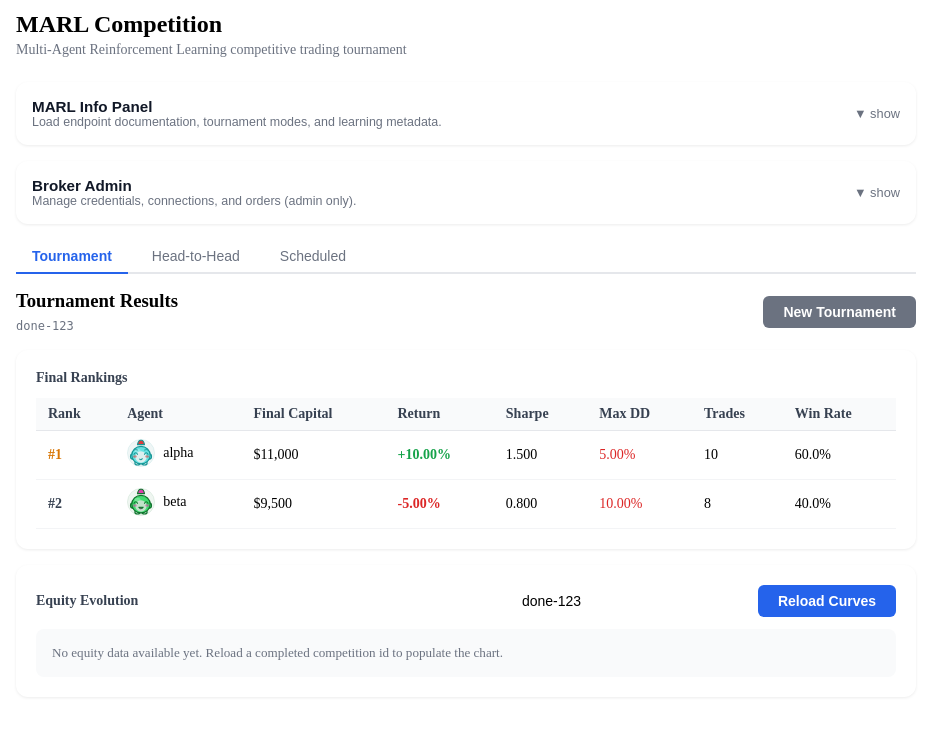
Scenario: MarlCompetitionViewer — results › reloads equity curves into the existing chart area and shows running fallback state
Click the button "Reload Curves" at (827, 601), box left=758, top=585, right=896, bottom=617
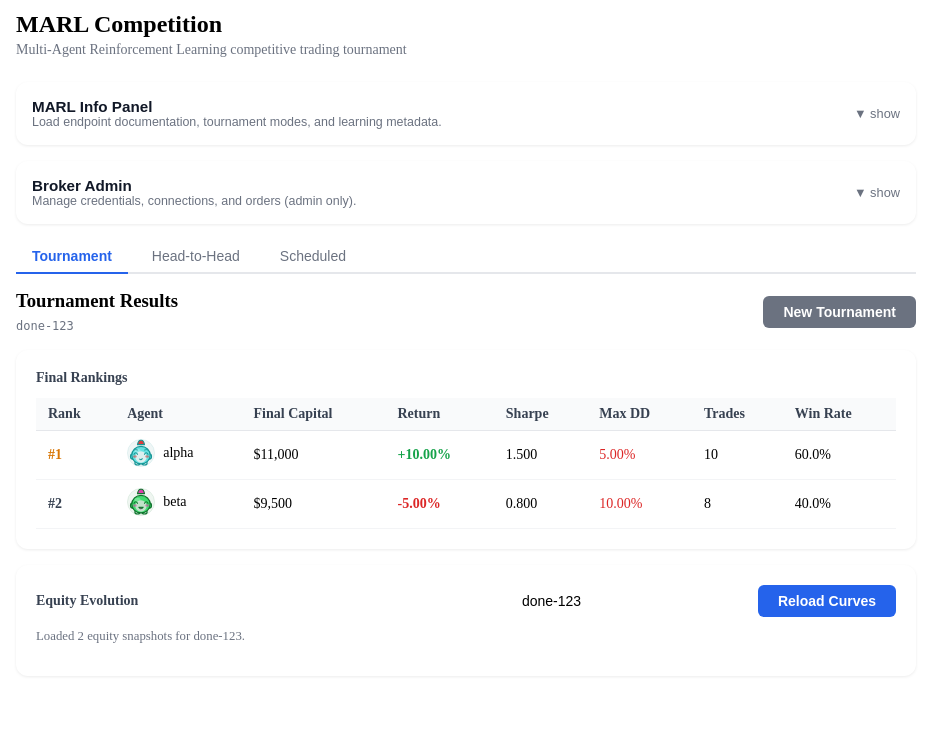
Check: the text "Loaded 2 equity snapshots for done-123." is shown, box left=36, top=629, right=245, bottom=643
Replace the text in the field named "Competition ID" with "running-456" at (630, 601), box left=510, top=585, right=750, bottom=617
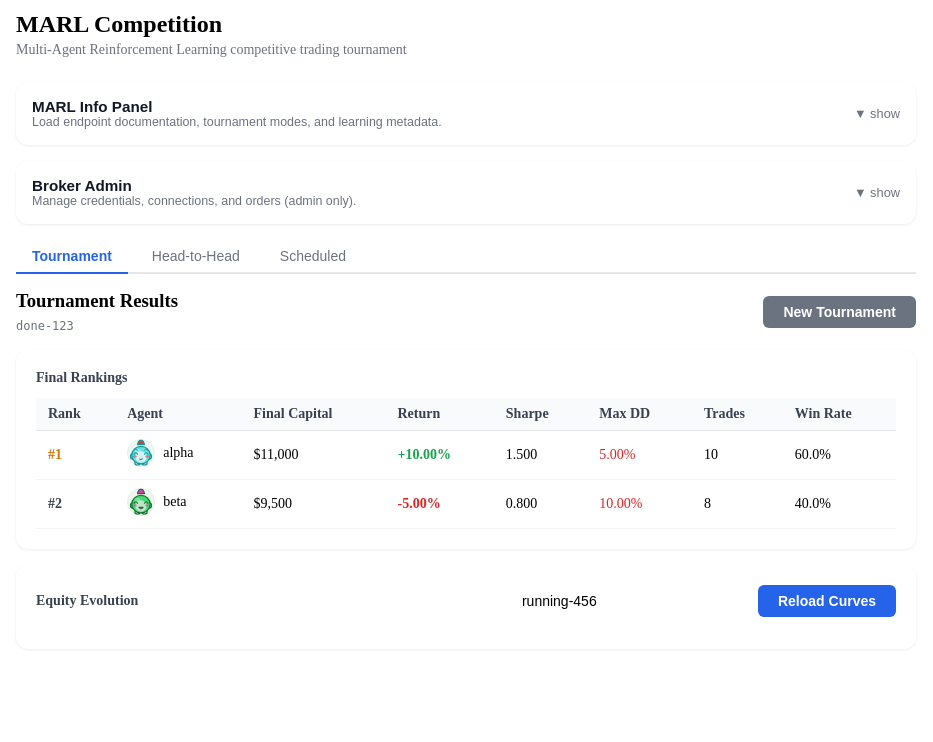
Click the button "Reload Curves" at (827, 601), box left=758, top=585, right=896, bottom=617
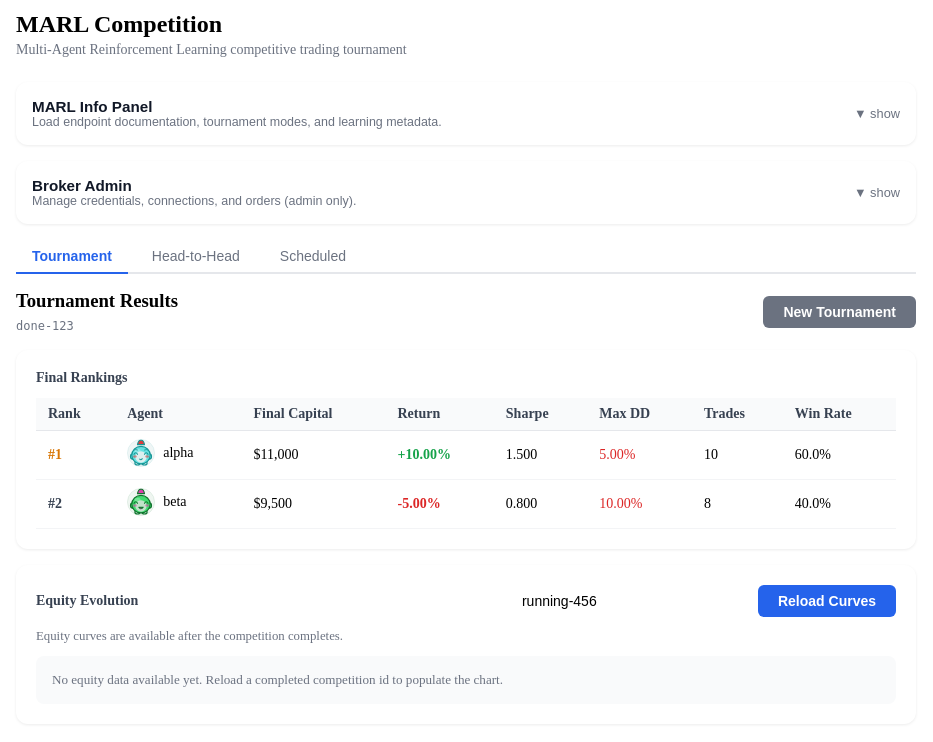
Check: the text "Equity curves are available after the competition completes." is shown, box left=36, top=629, right=343, bottom=643
